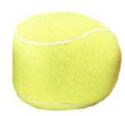tennis ball: (11, 11, 122, 112)
